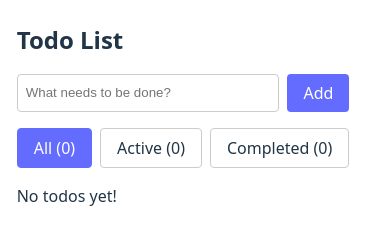
TodoList Component › adds a new todo when user types and clicks add button
Type "Buy groceries" into the field with test id "todo-input".
click(148, 93); type("Buy groceries")  # box left=17, top=74, right=279, bottom=112
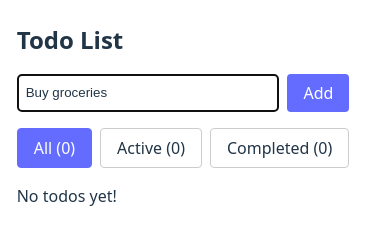
Click add button
Click the button with test id "add-button".
click(318, 93)  # box left=287, top=74, right=349, bottom=112
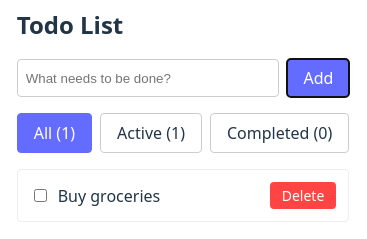
Expected: the text "Buy groceries" is shown, left=58, top=185, right=160, bottom=207
Expected: the field with test id "todo-input" is empty, left=17, top=60, right=279, bottom=98
